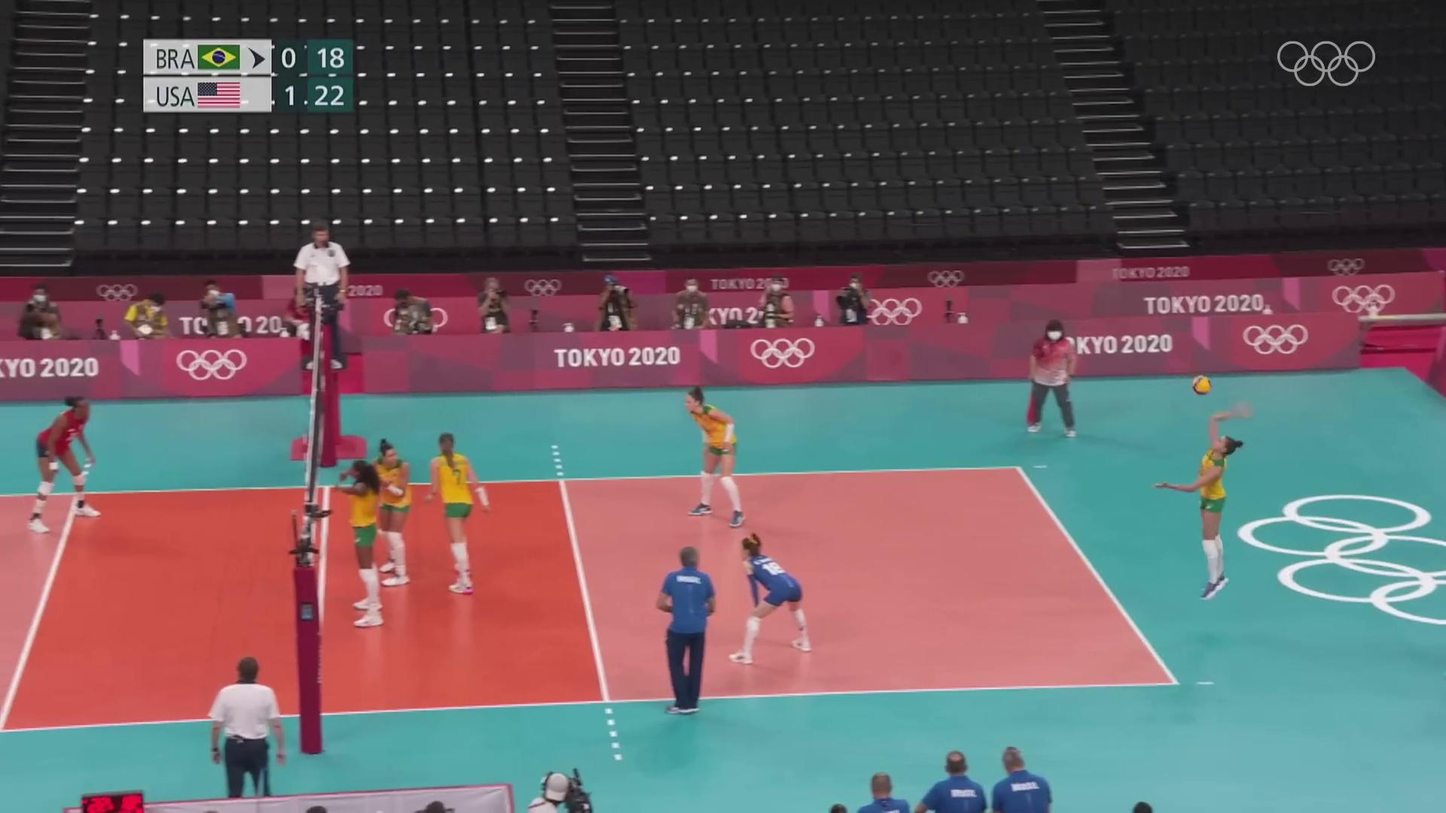player: (1163, 406, 1250, 598), (427, 432, 493, 595), (736, 536, 814, 665), (329, 458, 382, 629), (30, 398, 98, 525), (686, 390, 746, 524), (367, 438, 412, 587)
refree: (204, 661, 285, 799), (288, 223, 351, 370), (1023, 319, 1081, 438)
